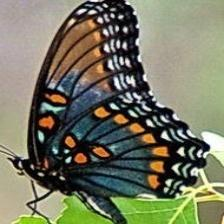butterfly: (11, 0, 210, 224)
